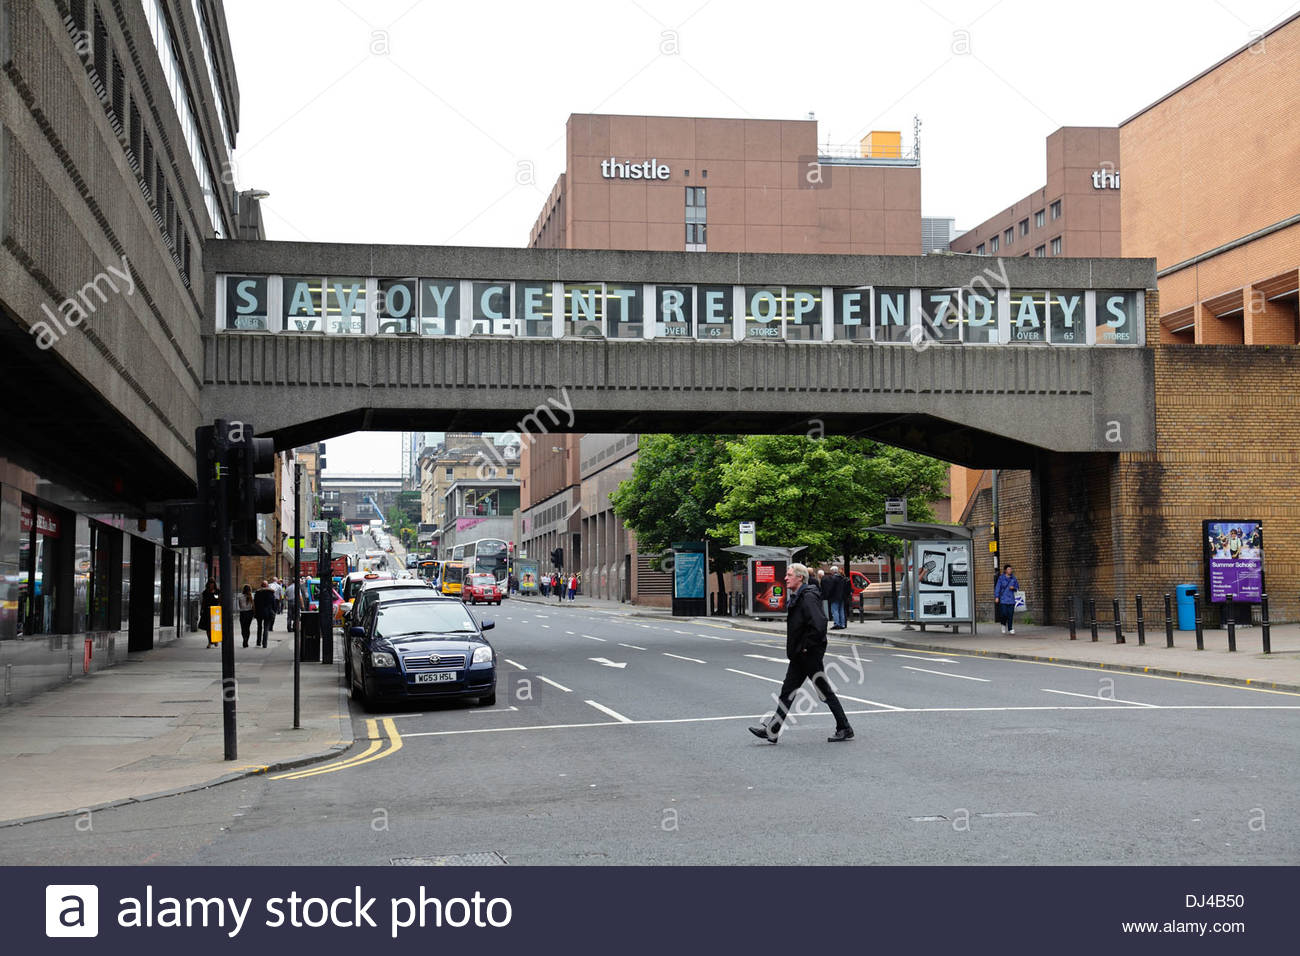bridge: (201, 232, 1159, 463)
